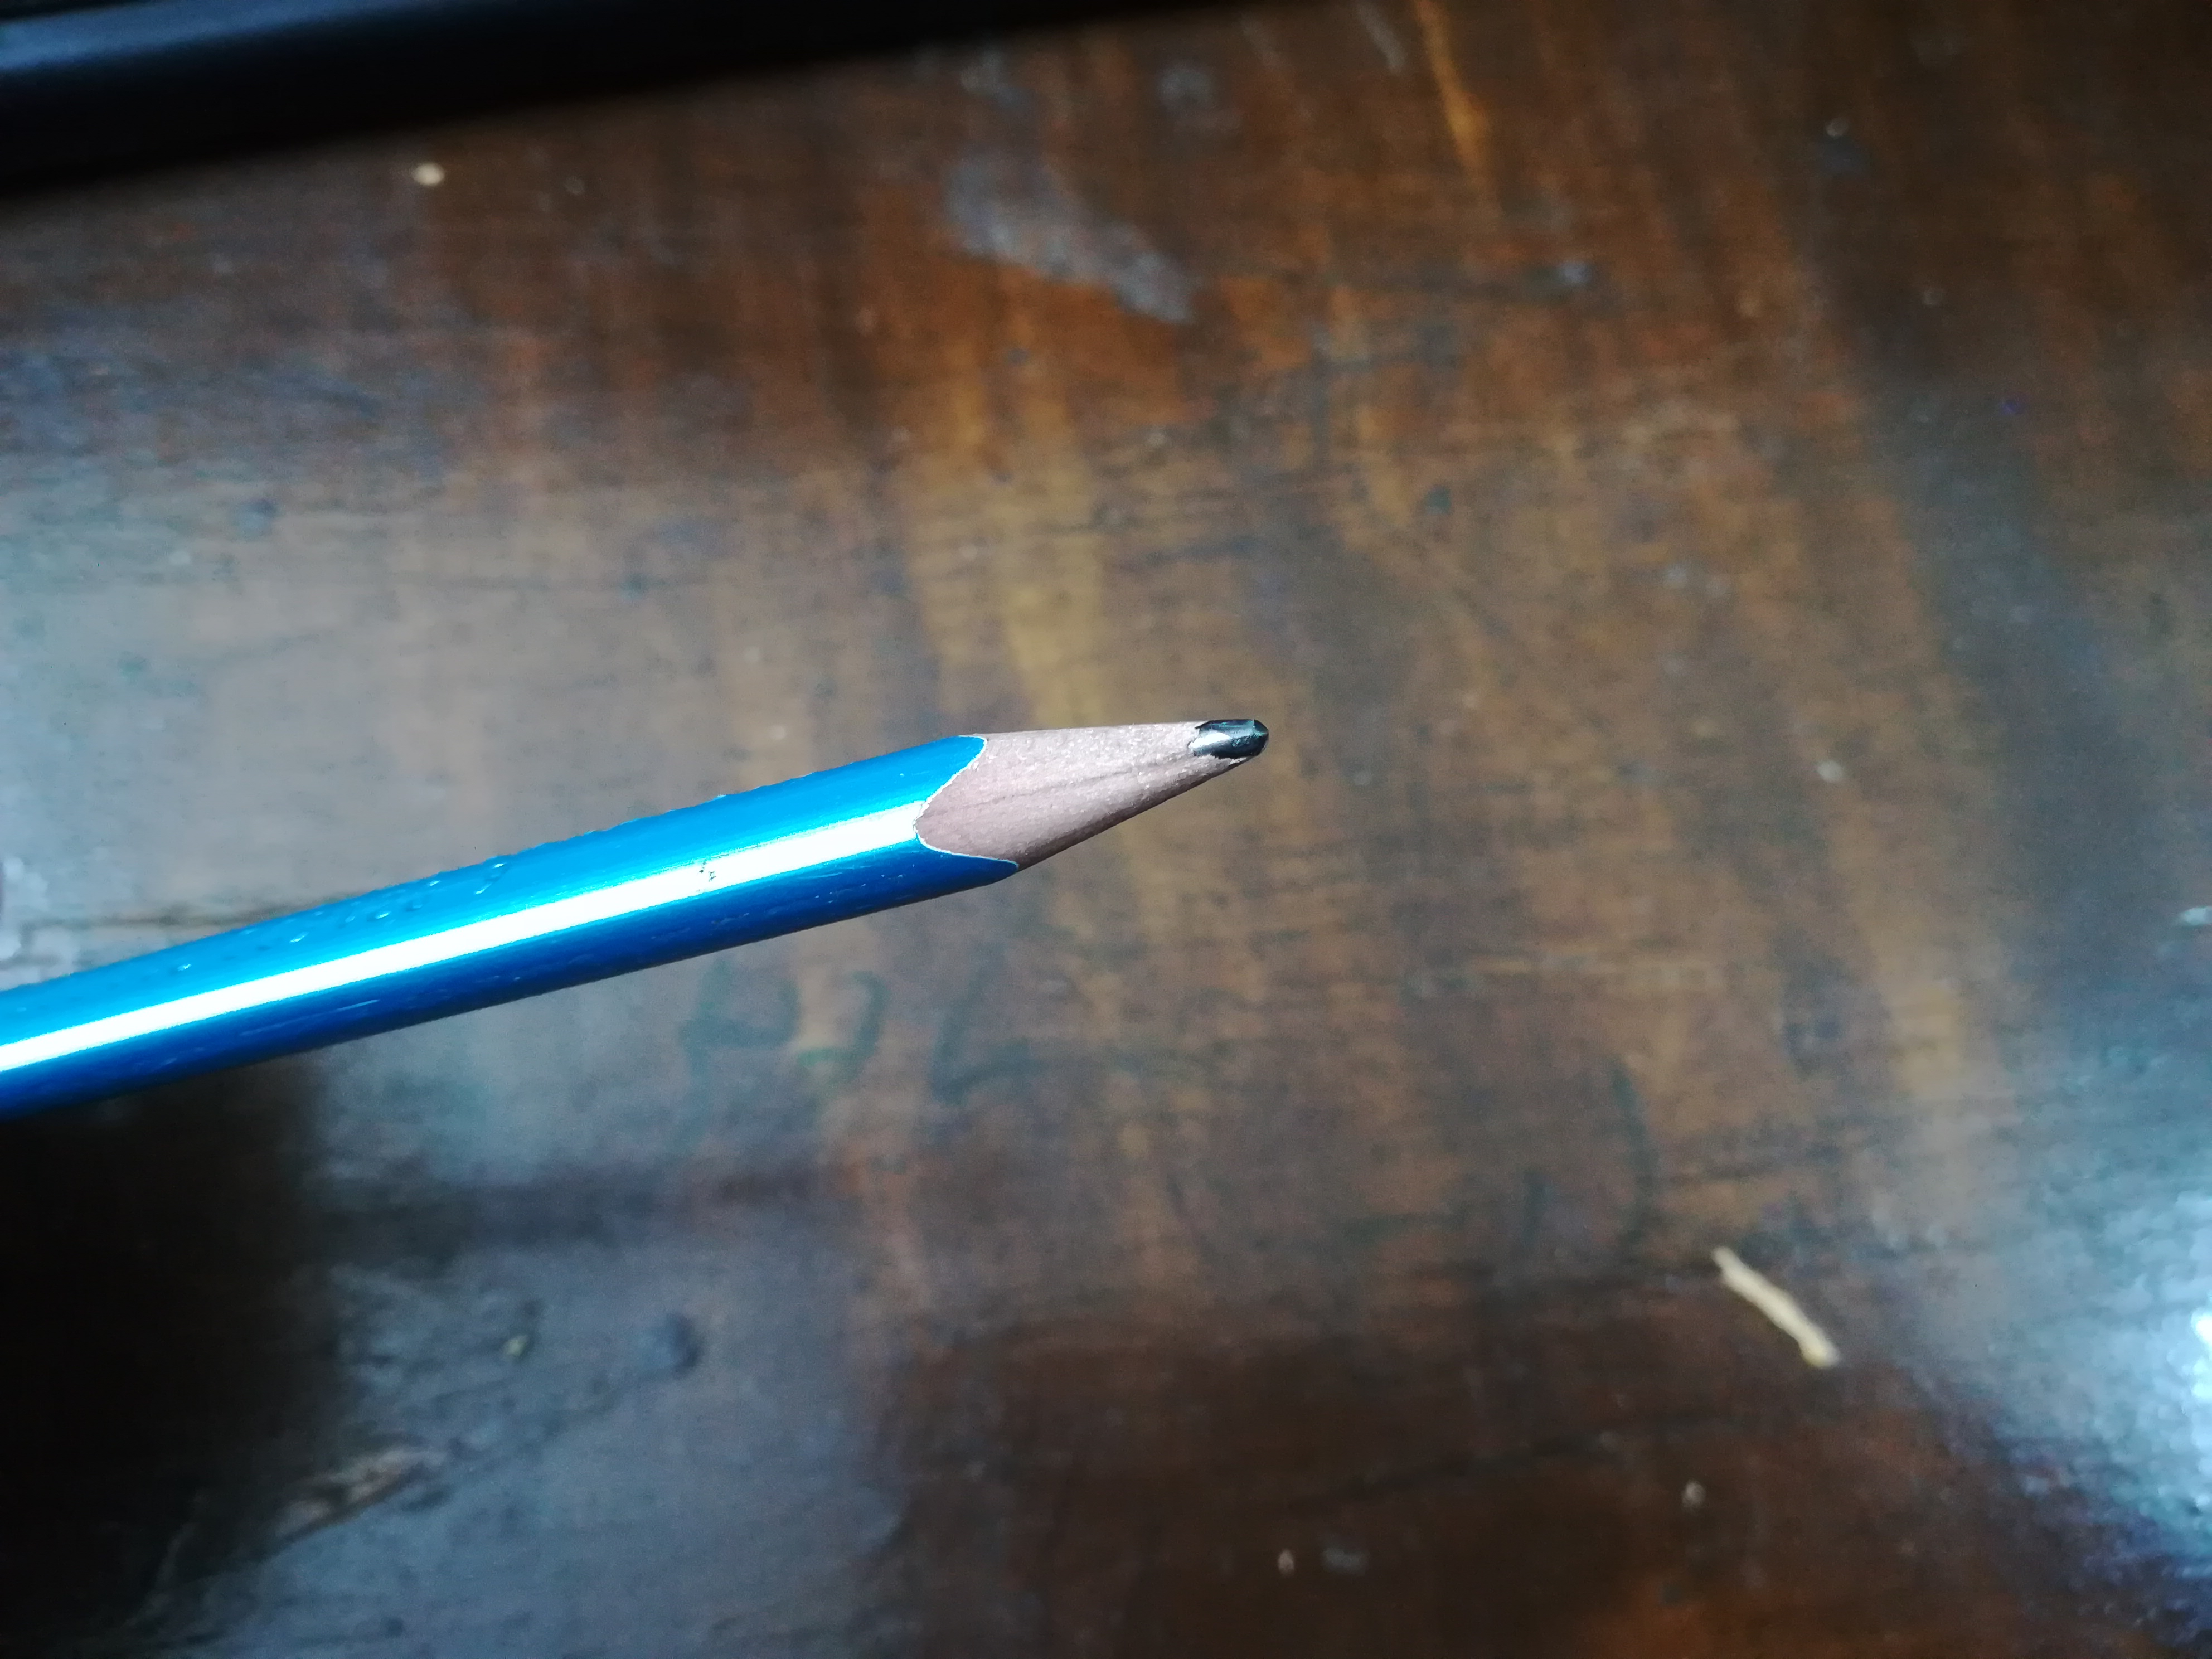pen_tip: (817, 641, 1371, 953)
